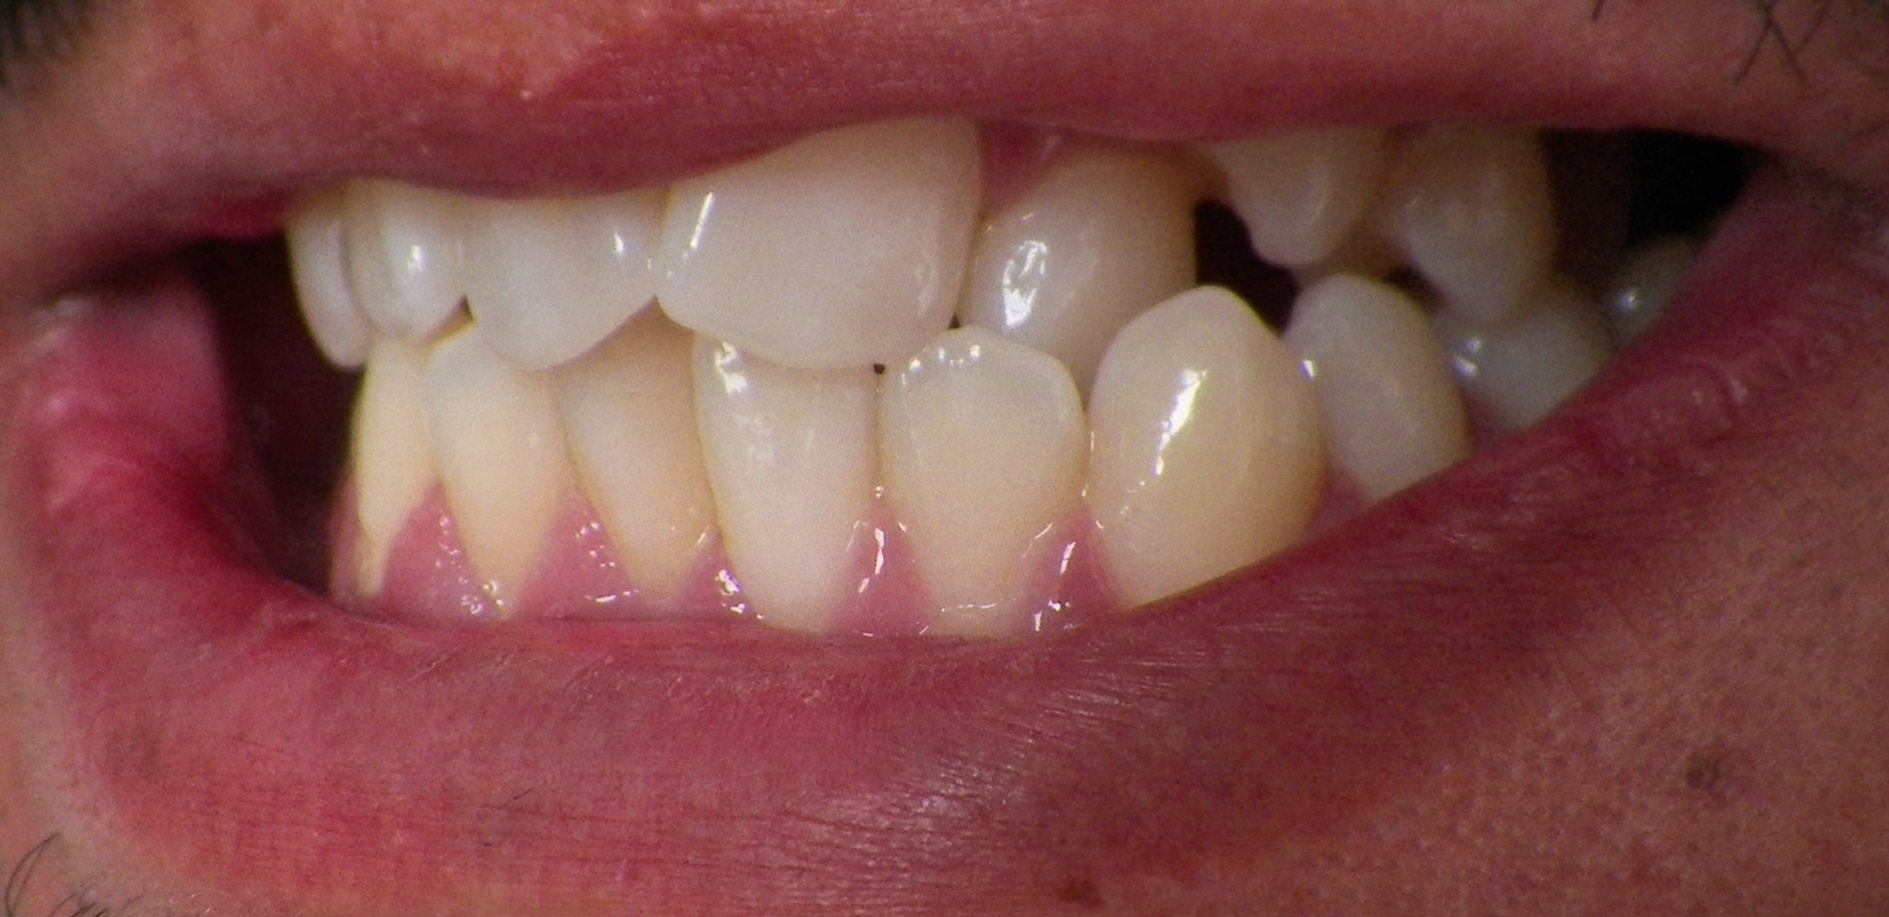boca: (275, 136, 1714, 629)
